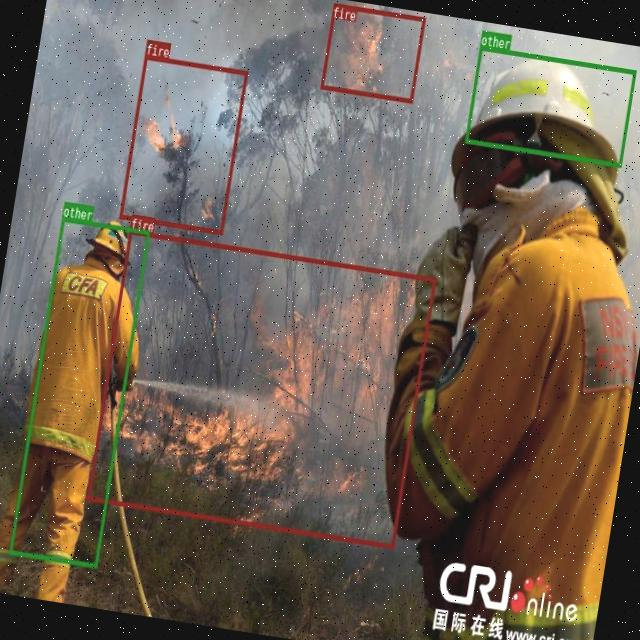fire: (86, 228, 436, 548), (119, 55, 248, 234), (320, 3, 425, 103)
